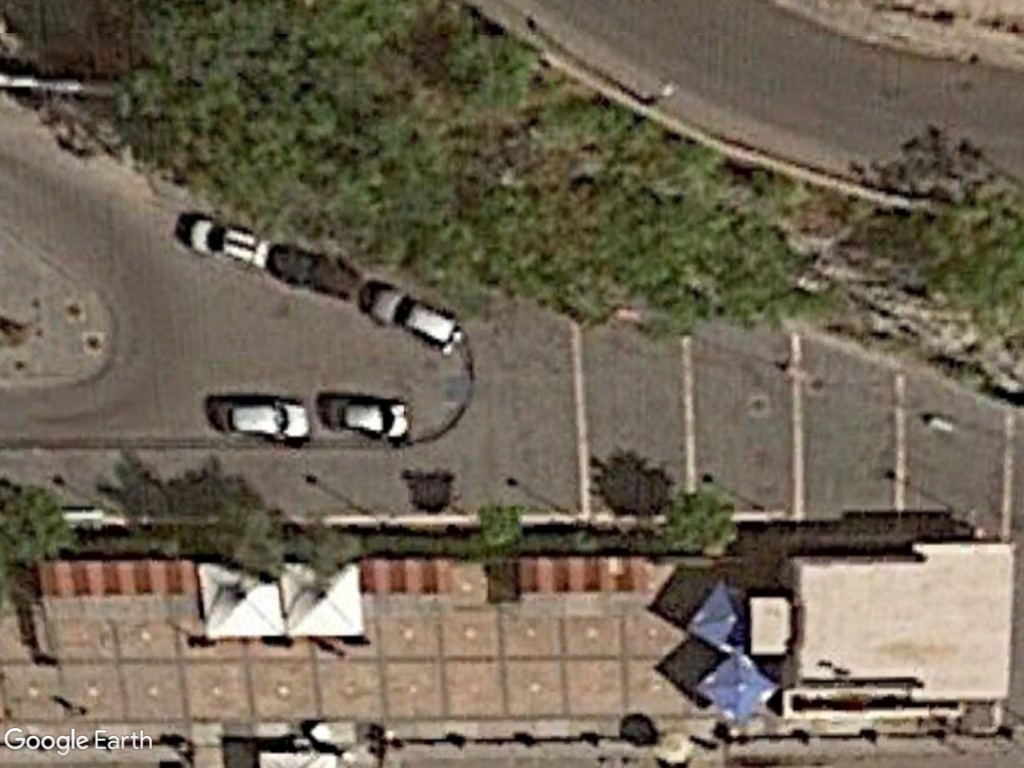car: (361, 285, 468, 354), (184, 216, 276, 274), (207, 397, 315, 443), (319, 391, 411, 442)
